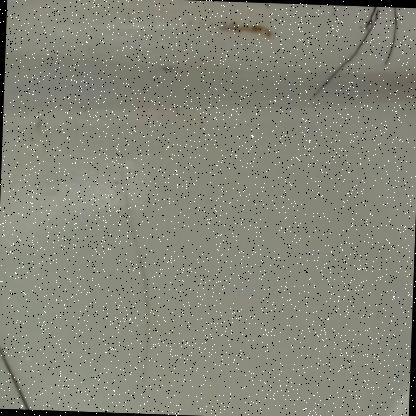Crack: (288, 4, 415, 143), (0, 293, 89, 411)
